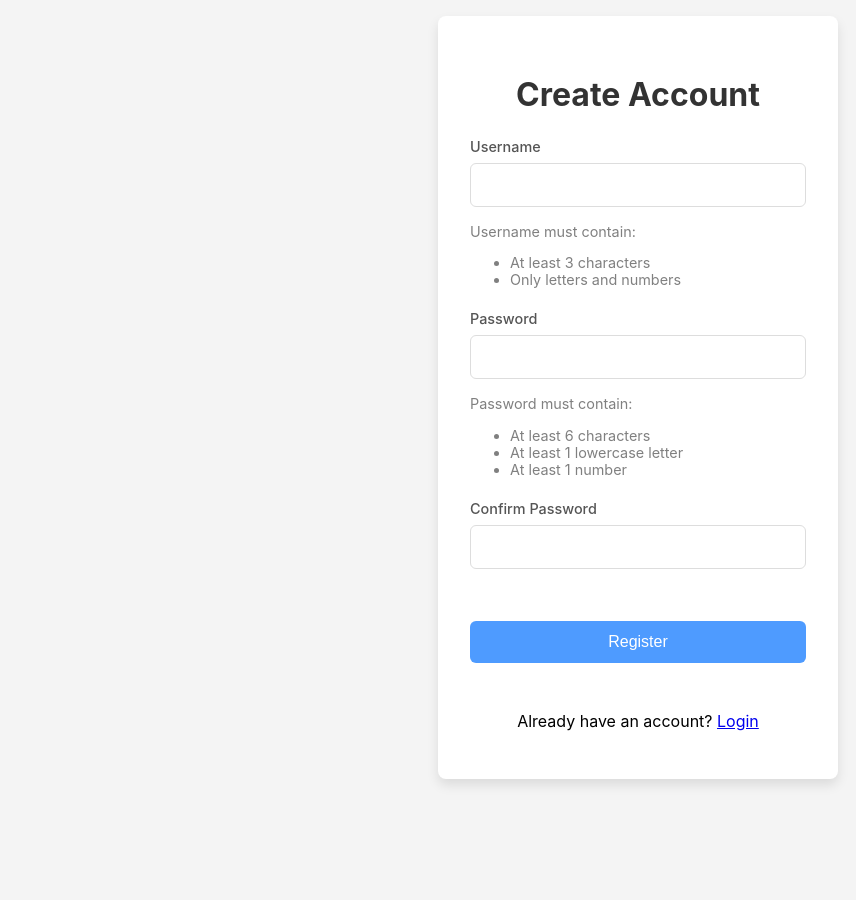
Test case: Register page tests › should show error message on failed registration
In the field labelled "Username": (638, 184) x1=470 y1=162 x2=806 y2=206, type "validuser"
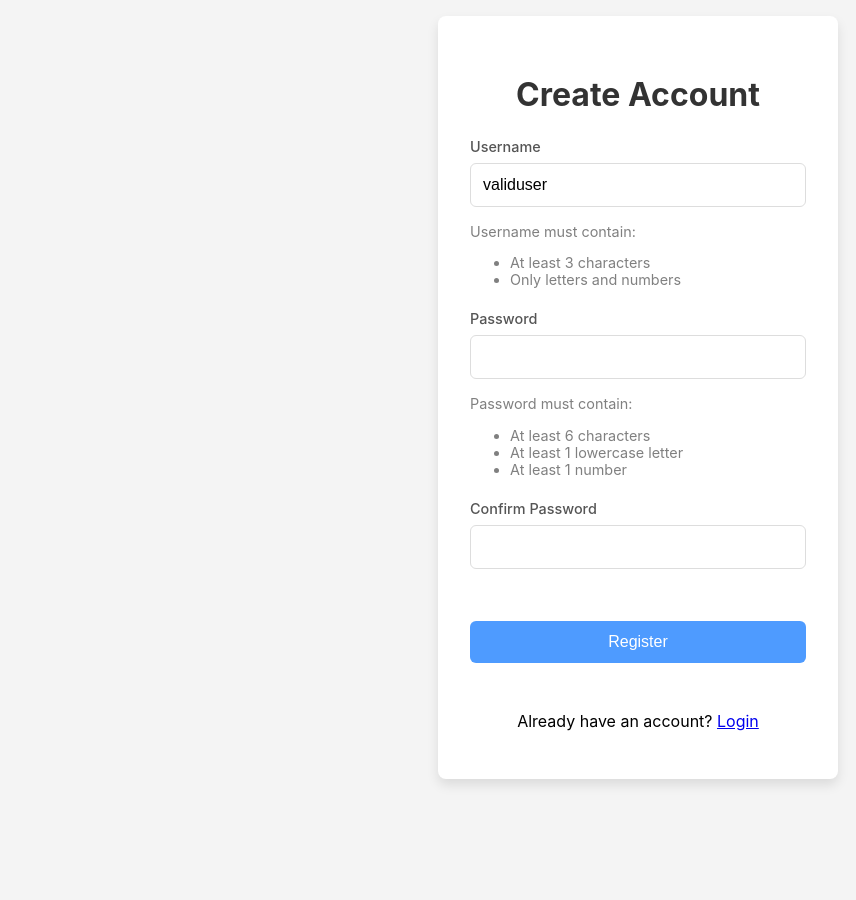
In the password field with test id "password": (638, 357) x1=470 y1=335 x2=806 y2=379, type "Password123!"
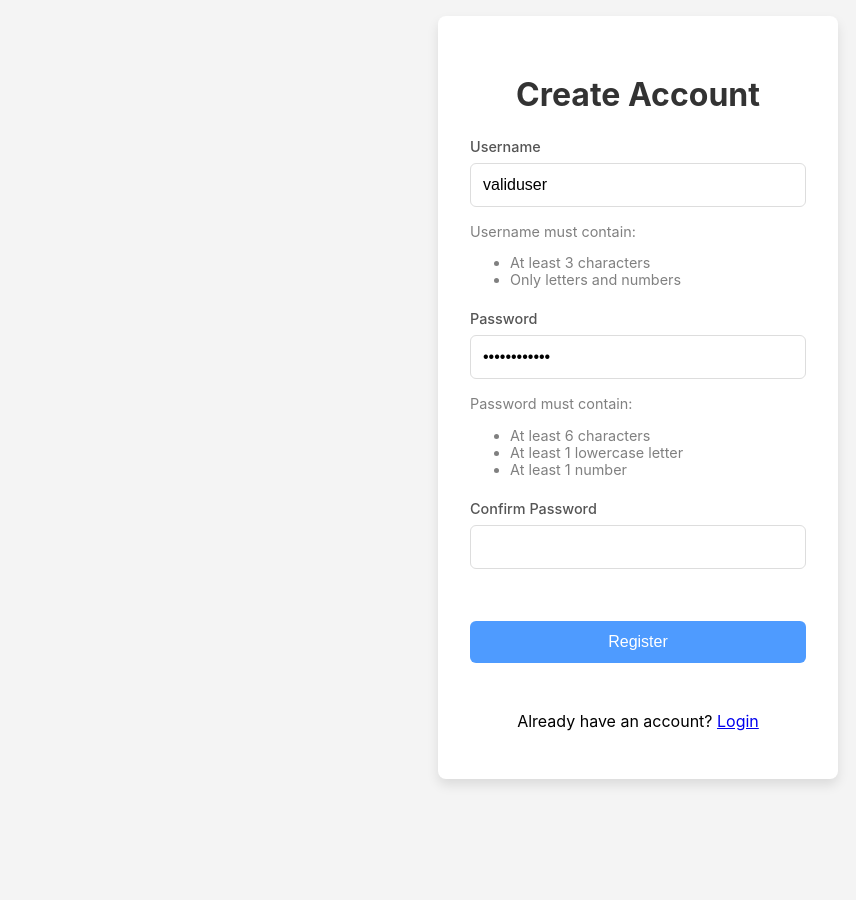
In the password field labelled "Confirm Password": (638, 547) x1=470 y1=525 x2=806 y2=569, type "Password123!"
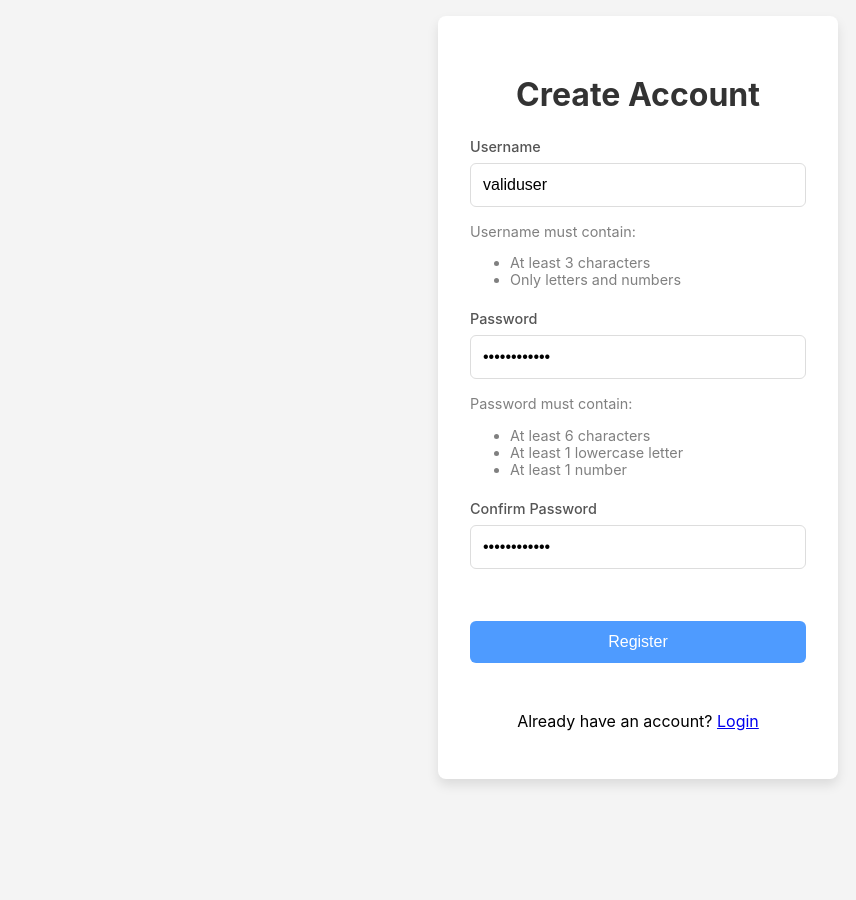
Click the button "Register": (638, 642) x1=470 y1=621 x2=806 y2=663
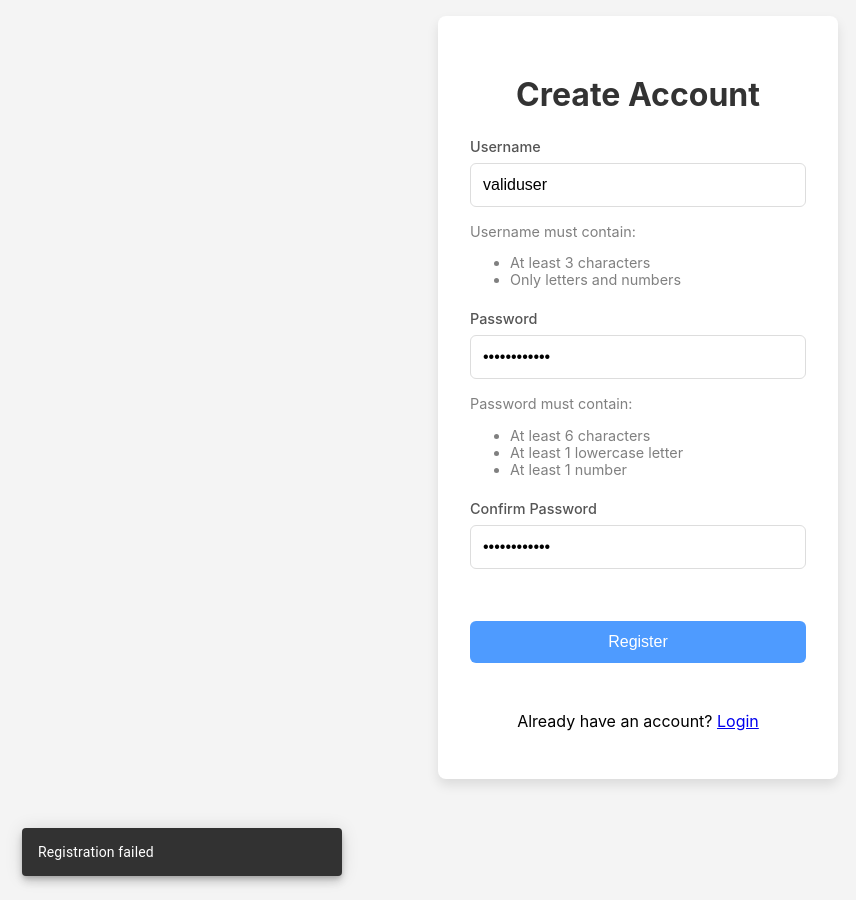
Now the text "Registration failed" is shown, box x1=38 y1=844 x2=154 y2=860
